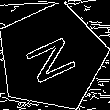N_NE: (20, 28, 83, 86)
